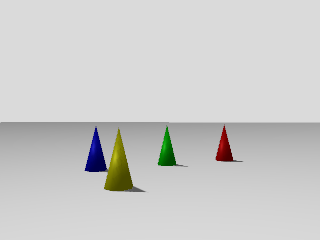blue: (83, 124, 107, 172)
green: (156, 123, 178, 167)
red: (211, 124, 236, 163)
yellow: (105, 126, 132, 192)
